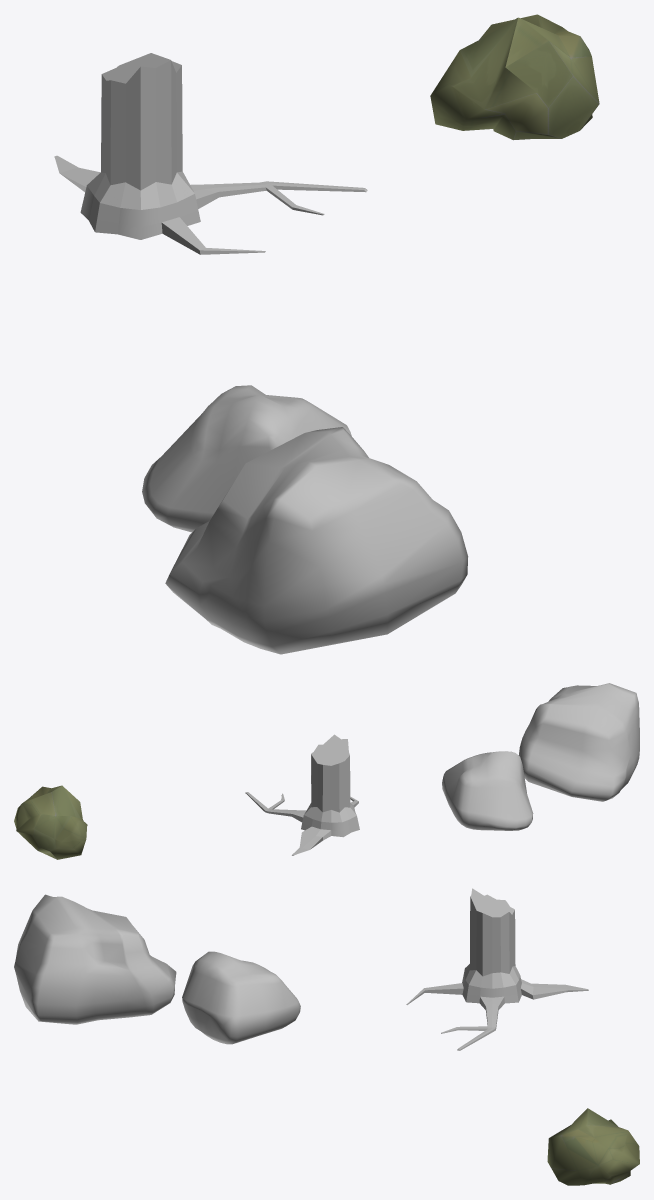
The model's file is rocksAndBushes 1.fbx.
The picture shows the model from 3 angles, top to bottom: view 1: azimuth 30°, elevation 25°; view 2: azimuth 150°, elevation 25°; view 3: azimuth 270°, elevation 25°; orthographic projection. The views are drawn at different scales.
Visible parts, largest first — view 1: rock1, trunk, bush, rock2; view 2: rock1, rock2, trunk, bush; view 3: rock1, rock2, trunk, bush.
Part boxes in pixels (x1,y1,x2,y2): rock1: (165, 427, 468, 654); trunk: (54, 53, 367, 254); bush: (430, 14, 599, 140); rock2: (142, 385, 351, 532); rock1: (518, 683, 639, 801); rock2: (442, 751, 533, 830); trunk: (245, 734, 359, 855); bush: (14, 785, 87, 859); rock1: (14, 894, 176, 1024); rock2: (182, 951, 300, 1044); trunk: (406, 888, 588, 1050); bush: (547, 1108, 639, 1185).
Bounding box in the file's own units: 336 × 114 × 380.
